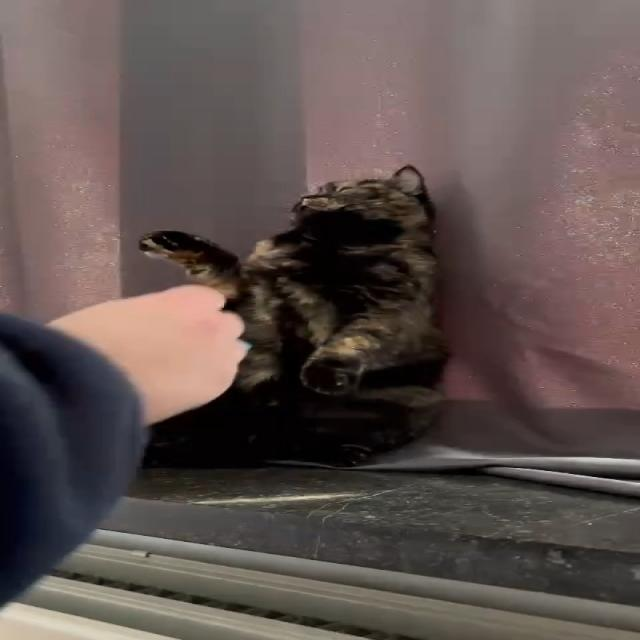authorized: (136, 163, 449, 468)
